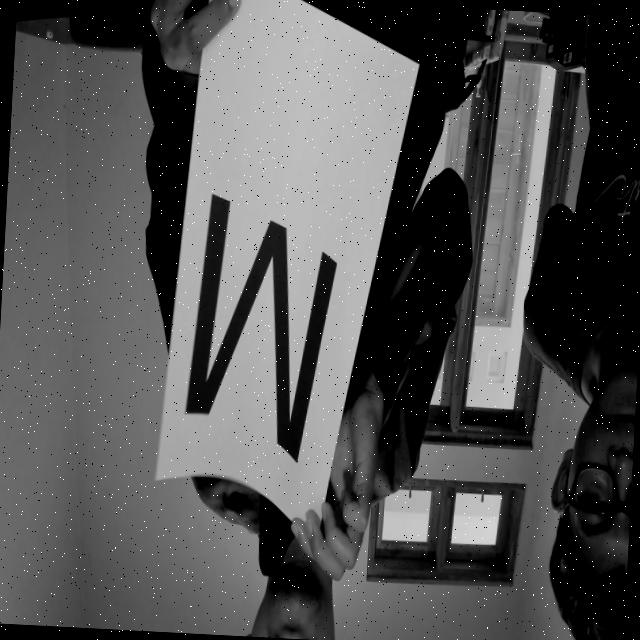m: (175, 182, 348, 470)
